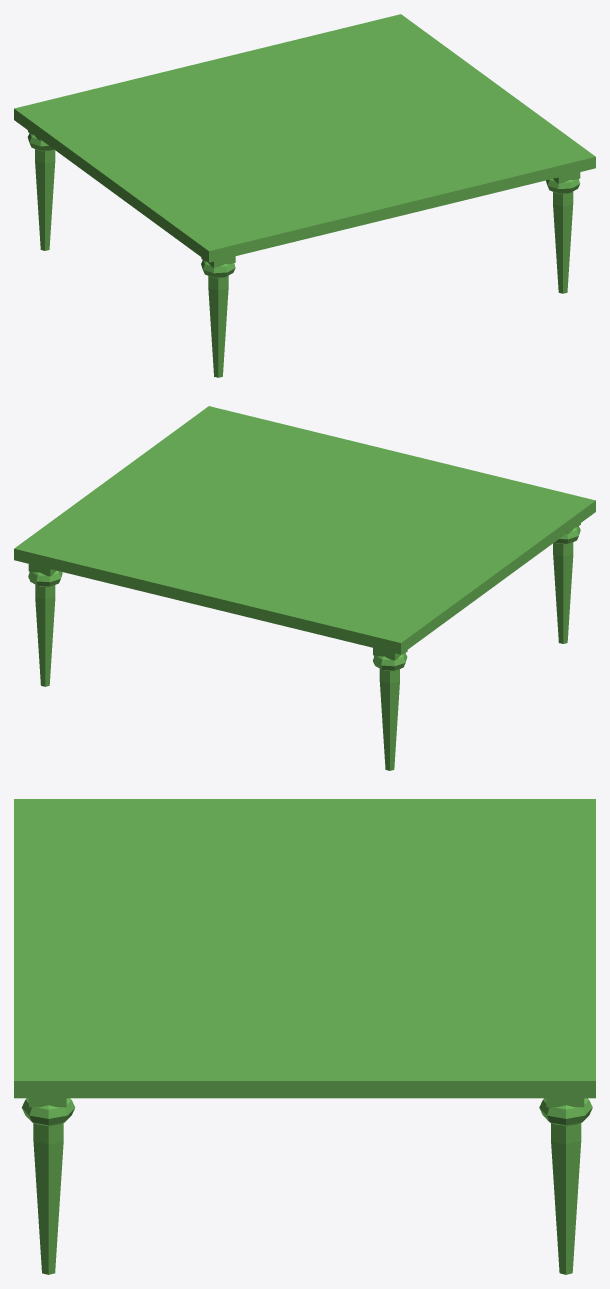
The model's file is diningtable.fbx.
3 views of the same model, one above another, from view 1: azimuth 30°, elevation 25°; view 2: azimuth 150°, elevation 25°; view 3: azimuth 270°, elevation 25° (orthographic). The views are drawn at different scales.
Parts seen in each view (by area): view 1: Table; view 2: Table; view 3: Table.
Boxes of the visible parts, x1,y1,x2,y2 form: Table: [14, 14, 595, 377]; Table: [14, 406, 595, 770]; Table: [14, 799, 595, 1274].
Bounding box in the file's own units: 321 × 109 × 280.
